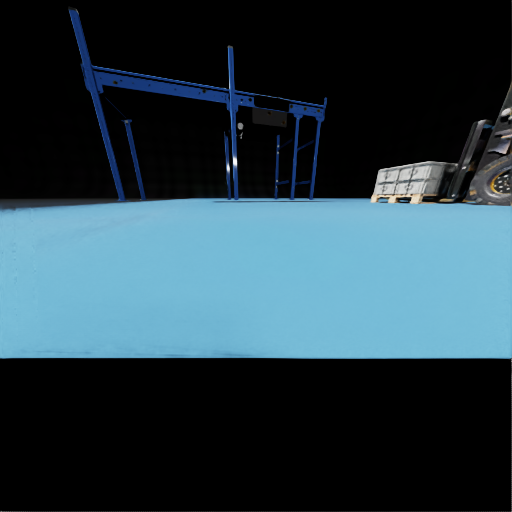transportation_area: (395, 179, 449, 194), (412, 167, 413, 172), (414, 163, 415, 165), (228, 97, 229, 98)
